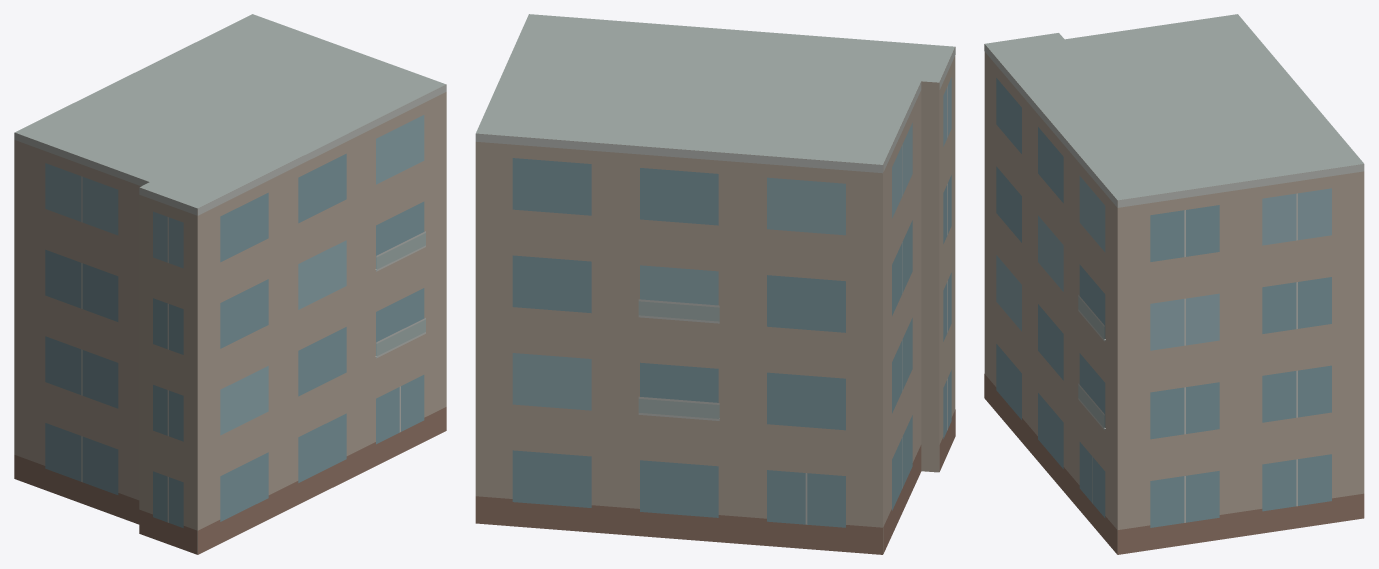
File: survey-upis-32983495.glb
The picture shows the model from 3 angles, left to right: view 1: azimuth 30°, elevation 25°; view 2: azimuth 150°, elevation 25°; view 3: azimuth 270°, elevation 25°; orthographic projection. The views are drawn at different scales.
Parts seen in each view (by area): view 1: survey-upis-32983495.tmp; view 2: survey-upis-32983495.tmp; view 3: survey-upis-32983495.tmp.
Boxes of the visible parts, <box> form: survey-upis-32983495.tmp: <box>14,14,446,554</box>; survey-upis-32983495.tmp: <box>475,14,955,554</box>; survey-upis-32983495.tmp: <box>984,14,1364,554</box>.
Size of the model in its own units: 13.04 by 11.55 by 11.23.
